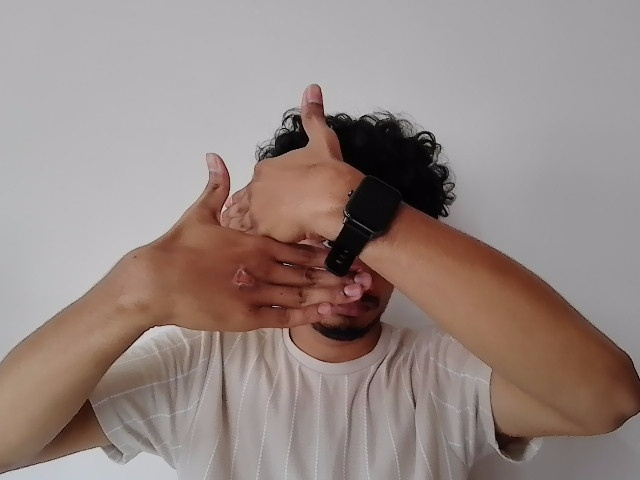work: (138, 90, 400, 363)
